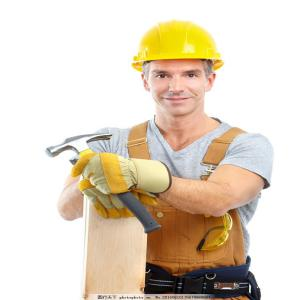yellow: (136, 22, 224, 121)
